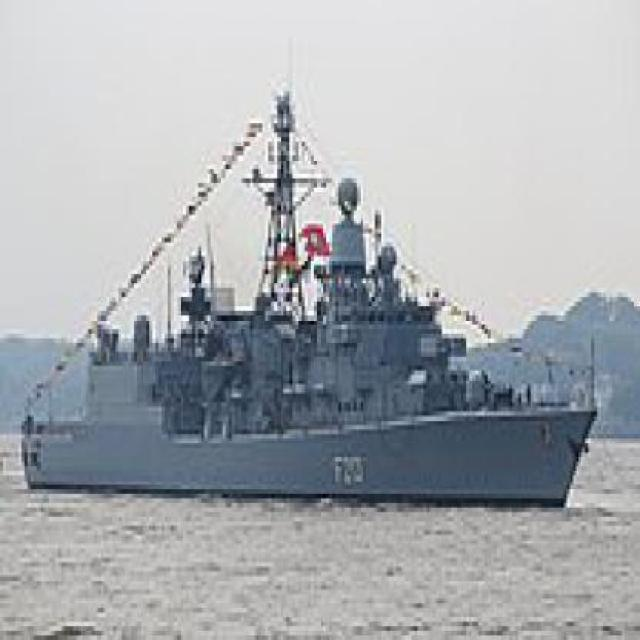warship2: (19, 74, 608, 522)
